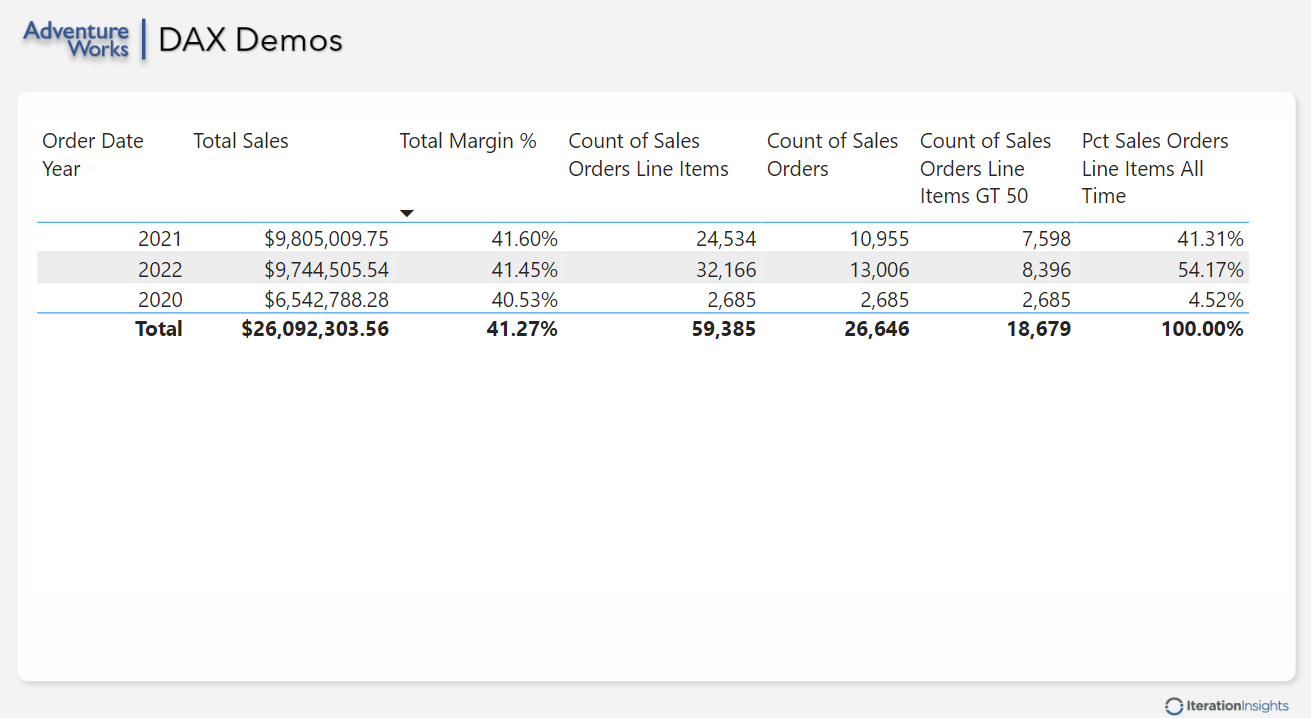

The dashboard page shown, as its layout file describes it:
{"tool":"powerbi","page":{"name":"DAX Demos","canvas":[1280,720],"ordinal":1},"visuals":[{"type":"tableEx","fields":{"Values":["Order Date.Order Date Year","Sales.Total Sales","Sales.Total Margin %","Sales.Count of Sales Orders Line Items","Sales.Count of Sales Orders","Sales.Count of Sales Orders Line Items GT 50","Sales.Pct Sales Orders Line Items All Time"]},"box":[36,131,1209.6,457.9],"z":0}]}

Visuals, with their boxes in screenshot pixels (x1, y1, x2, y2), scaled from the page's 1280x720 canvas onto the 1311x718 screenshot:
tableEx - Order Date.Order Date Year x Sales.Total Sales: {"left": 37, "top": 131, "right": 1276, "bottom": 587}
